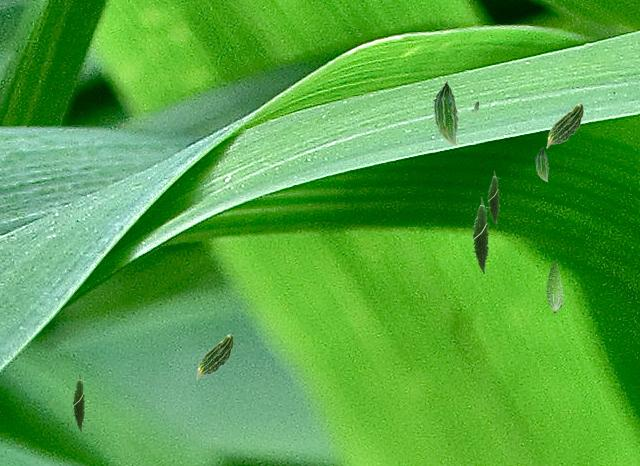ampalaya: (195, 333, 234, 379), (545, 102, 584, 148), (432, 80, 459, 146), (471, 196, 491, 275), (544, 258, 564, 313), (71, 372, 87, 433), (486, 170, 501, 226), (535, 146, 549, 182), (473, 99, 479, 117)
